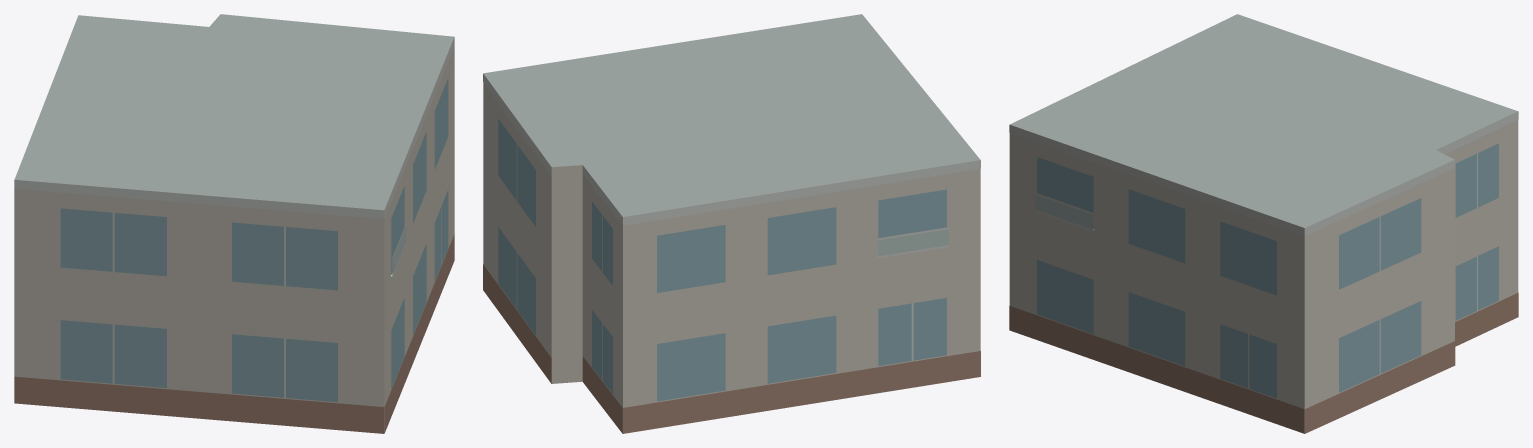
Rendered from survey-upis-32909151.glb.
3 views of the same model, side by side, from view 1: azimuth 30°, elevation 25°; view 2: azimuth 150°, elevation 25°; view 3: azimuth 270°, elevation 25° (orthographic). The views are drawn at different scales.
Parts seen in each view (by area): view 1: survey-upis-32909151.tmp; view 2: survey-upis-32909151.tmp; view 3: survey-upis-32909151.tmp.
Boxes of the visible parts, <box> form: survey-upis-32909151.tmp: <box>14,14,454,433</box>; survey-upis-32909151.tmp: <box>483,14,980,433</box>; survey-upis-32909151.tmp: <box>1009,14,1518,433</box>.
Size of the model in its own units: 13.62 by 6.1 by 13.68.
